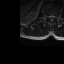CCS_normal: (50, 13, 52, 22)
LFS_normal: (55, 14, 57, 19)
LLS_normal: (53, 14, 55, 20)
RFS_stenosis: (46, 14, 48, 19)
RLS_normal: (48, 14, 50, 19)
